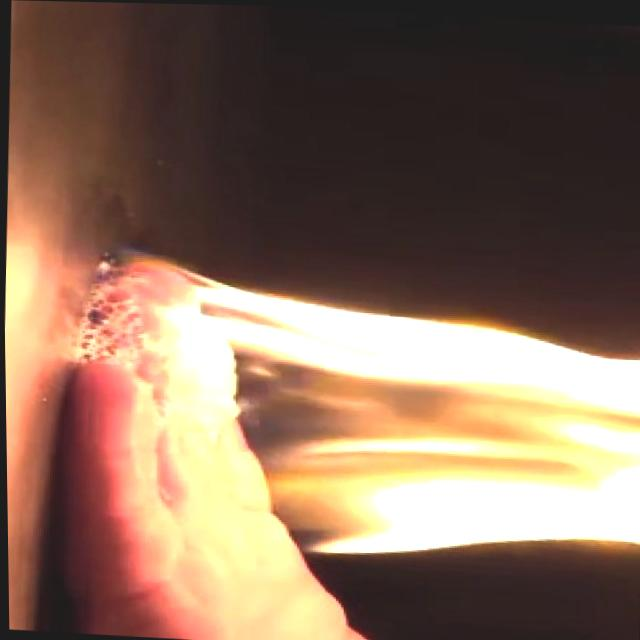Fire: (114, 269, 640, 584)
